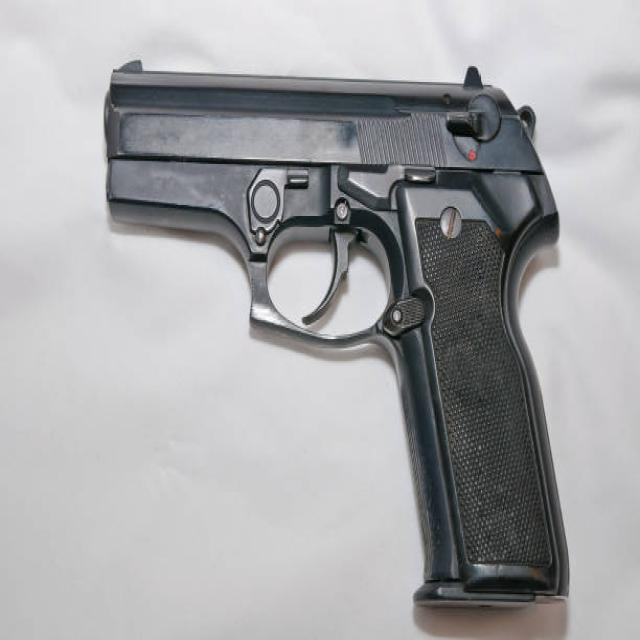pistol: (98, 53, 576, 620)
